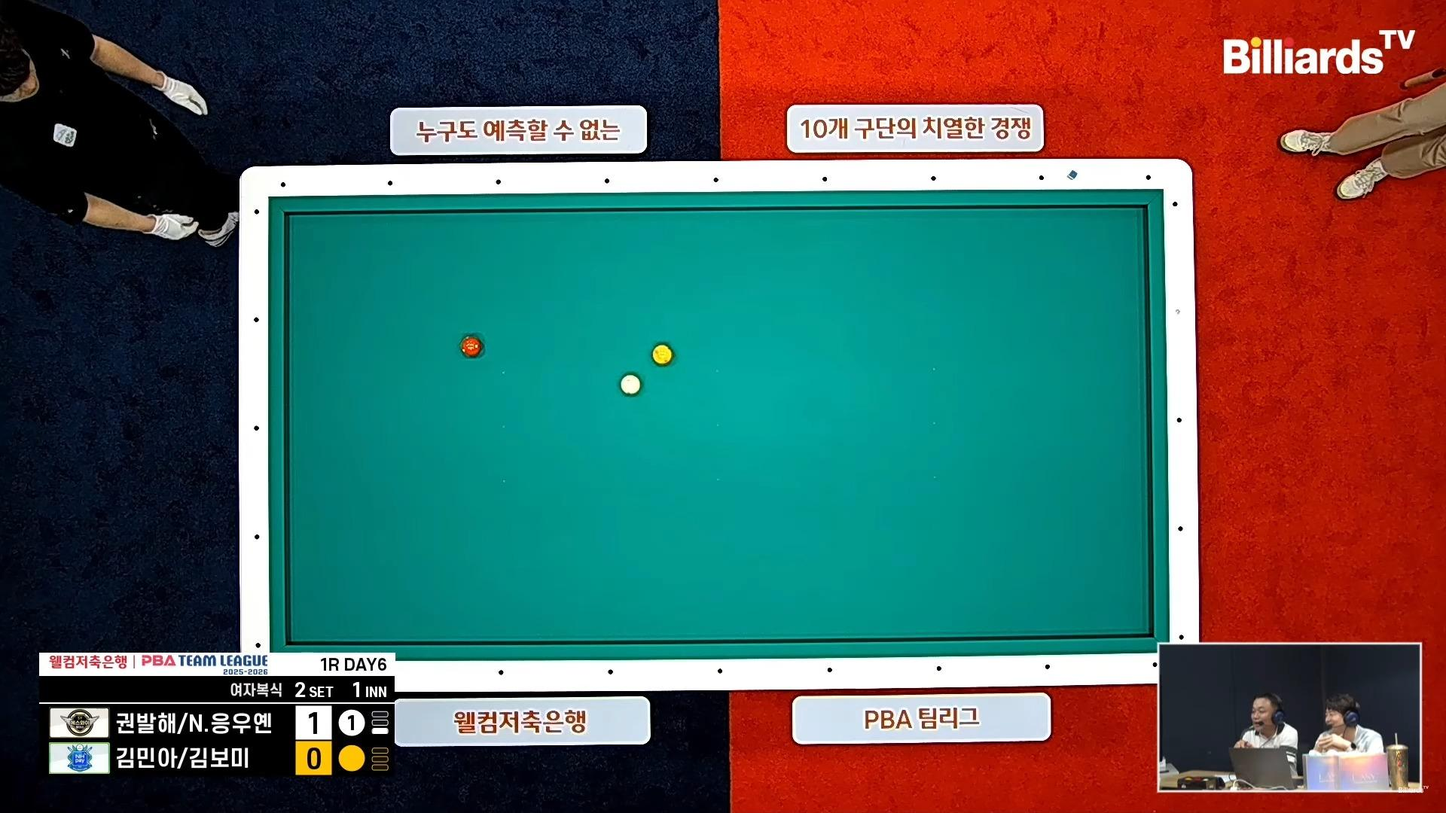billiard-ball-Red: (459, 333, 485, 359)
billiard-ball-Yellow: (652, 338, 678, 369)
billiard-ball-white: (619, 372, 644, 399)
